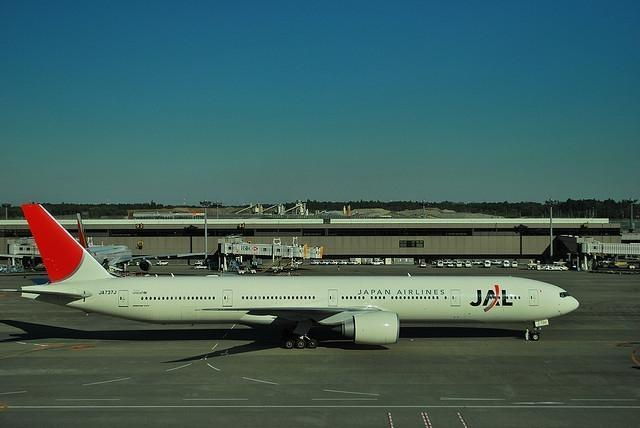car: (372, 260, 386, 266), (156, 260, 169, 266), (484, 260, 491, 268), (502, 260, 509, 268), (310, 260, 320, 265), (511, 261, 518, 268), (436, 261, 443, 268), (465, 260, 471, 268), (455, 262, 463, 268), (491, 260, 502, 264), (472, 260, 481, 264), (447, 264, 454, 268), (421, 262, 426, 266)
